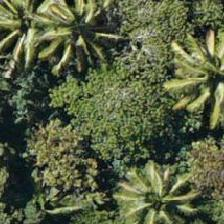coconut_tree: (102, 144, 192, 223), (28, 0, 118, 69), (164, 32, 223, 122), (0, 0, 72, 47)
